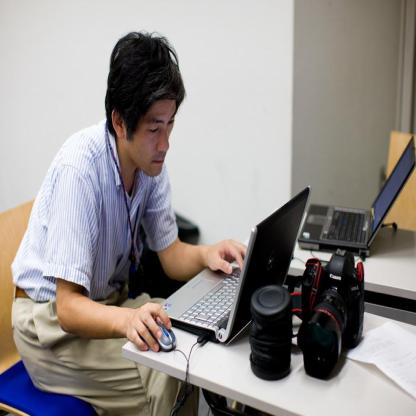board: (155, 182, 312, 348), (297, 136, 416, 257)
